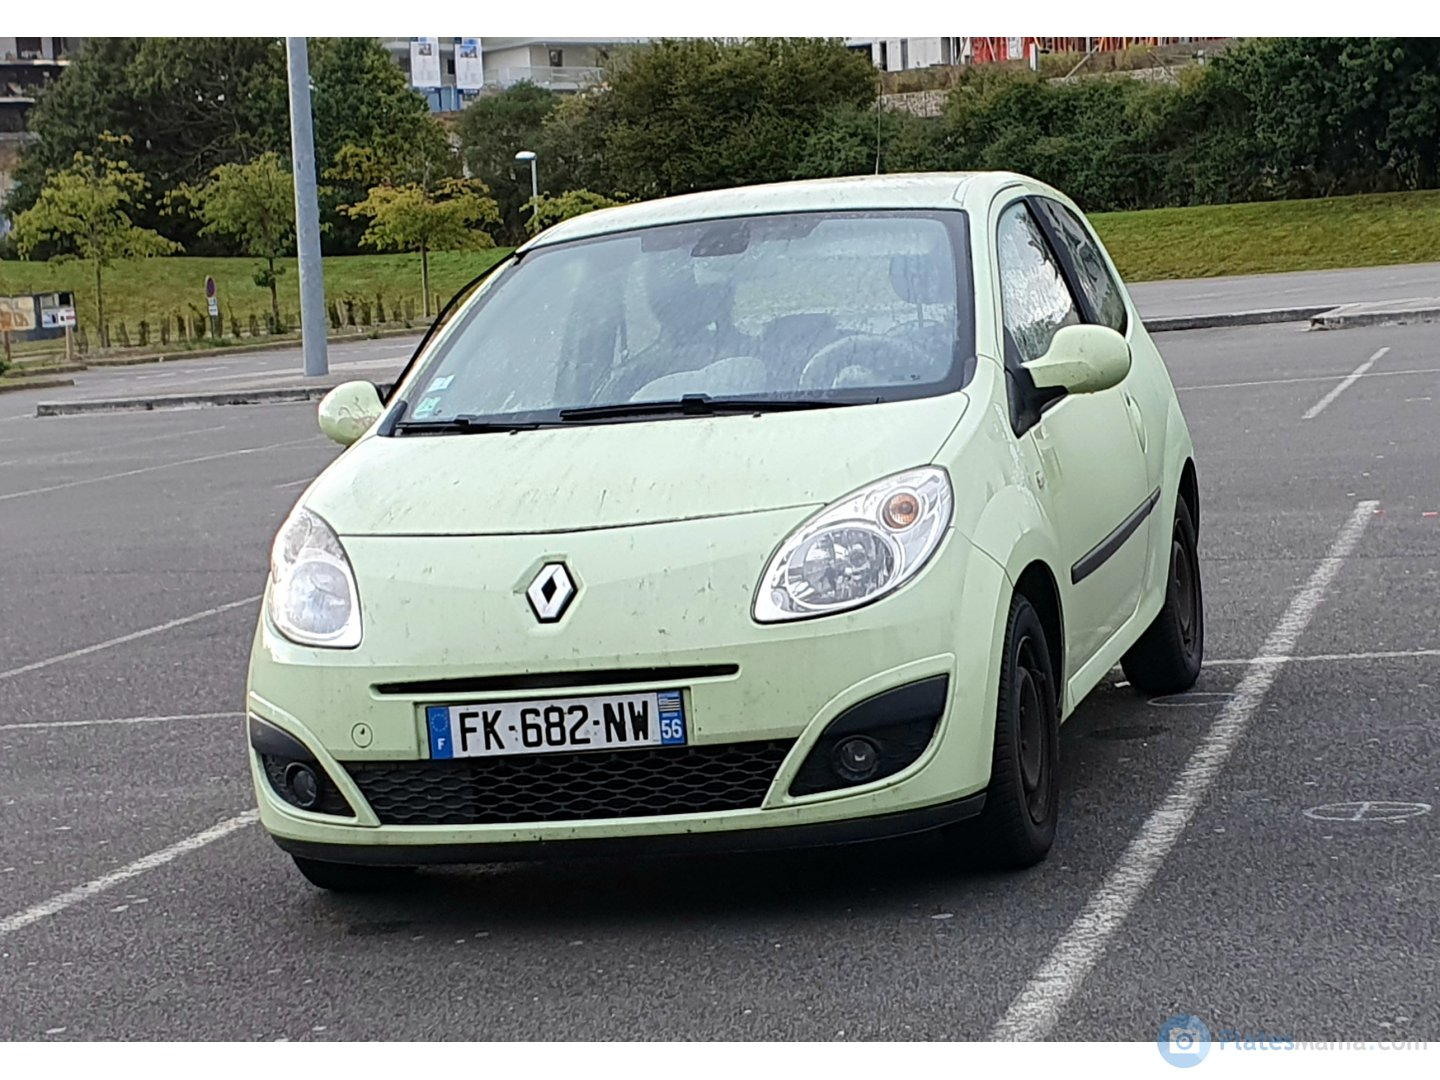licence plate: (423, 683, 693, 764)
